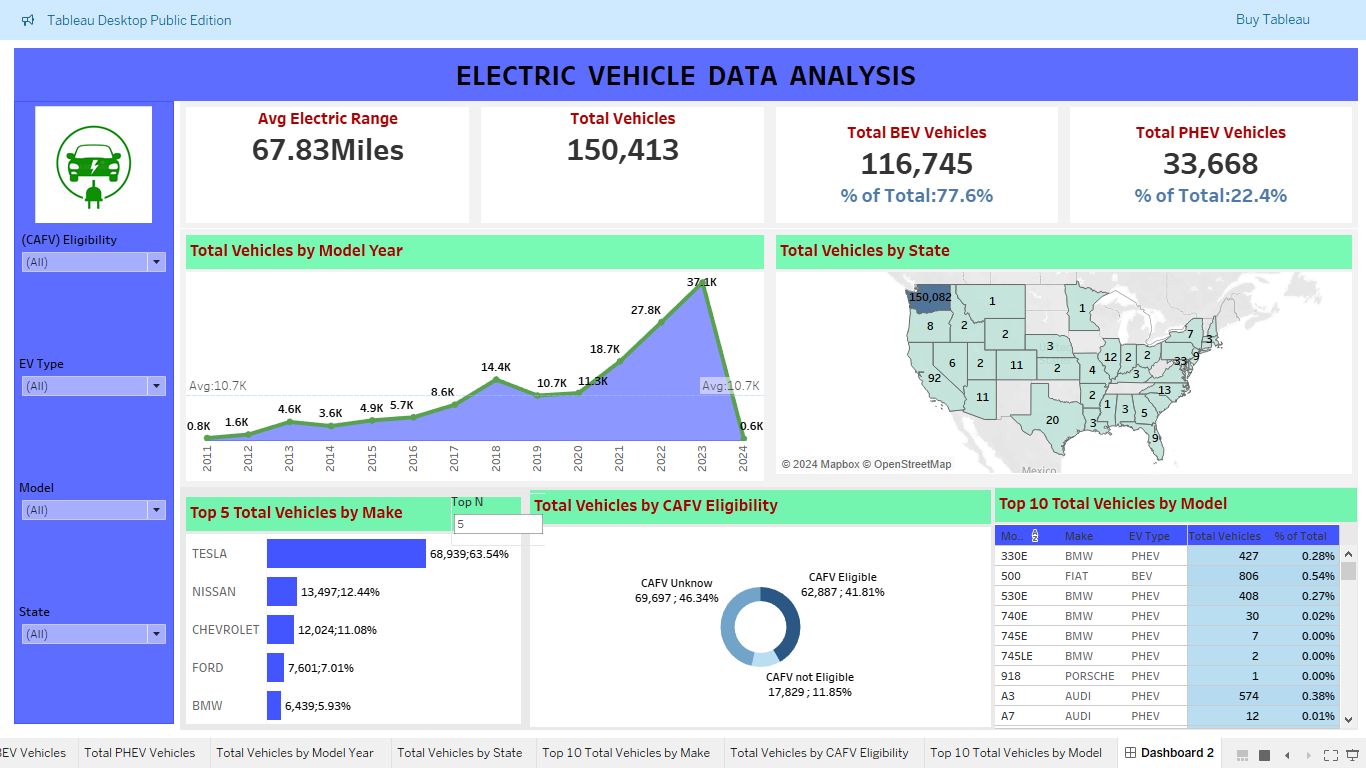

This screenshot's page, from the dashboard's own definition file:
{"tool":"tableau","page":{"name":"Dashboard 2","canvas":[1000,1000],"units":"permille","ordinal":0},"visuals":[{"type":"title","box":[6.9,14.5,986.1,76]},{"type":"worksheet","title":"Avg Electric Range","mark":"Automatic","box":[132.5,90.6,215.6,181.2]},{"type":"worksheet","title":"Total Vehicles","mark":"Automatic","box":[348.1,90.6,215.6,181.2]},{"type":"worksheet","title":"Total BEV Vehicles","mark":"Automatic","box":[563.6,90.6,214.7,181.2]},{"type":"worksheet","title":"Total PHEV Vehicles ","mark":"Automatic","box":[778.4,90.6,214.7,181.2]},{"type":"image","param":"C:/Users/Dell/Downloads/download.png","box":[13,92.4,113.4,177.5]},{"type":"filter","title":"Total Vehicles by Model Year ","param":"[federated.0qcce760u7c6ek1cqgjtz12ka2fo].[none:Clean Alternative Fuel Vehicle (C","box":[13,269.9,113.4,175.7]},{"type":"worksheet","title":"Total Vehicles by Model Year ","mark":"Area","rows":["Calculation_1089871118873862144","Calculation_1089871118873862144"],"cols":["Model Year"],"box":[132.3,271.7,430.9,367.7]},{"type":"worksheet","title":"Total Vehicles by State","mark":"Multipolygon","box":[563.2,271.7,429.8,367.7]},{"type":"filter","title":"Total Vehicles by Model Year ","param":"[federated.0qcce760u7c6ek1cqgjtz12ka2fo].[none:Electric Vehicle Type:nk]","box":[13,445.7,113.4,175.7]},{"type":"filter","title":"Total Vehicles by Model Year ","param":"[federated.0qcce760u7c6ek1cqgjtz12ka2fo].[none:Model:nk]","box":[13,621.4,113.4,175.7]},{"type":"worksheet","title":"Top 10 Total Vehicles by Make","mark":"Automatic","rows":["Make"],"cols":["Calculation_1089871118873862144"],"box":[132.3,639.4,300.4,346.1]},{"type":"worksheet","title":"Total Vehicles by CAFV Eligibility","mark":"Pie","rows":["Calculation_1089871119022354441","Calculation_1089871119022354441"],"box":[432.7,639.4,245.2,346.1]},{"type":"worksheet","title":"Top 10 Total Vehicles by Model","mark":"Square","rows":["Model","Make","Electric Vehicle Type"],"box":[677.9,639.4,315.2,346.1]},{"type":"parameter","param":"[Parameters].[Parameter 1]","box":[329.9,648.6,69.3,76.1]},{"type":"filter","title":"Total Vehicles by Model Year ","param":"[federated.0qcce760u7c6ek1cqgjtz12ka2fo].[none:State:nk]","box":[13,797.1,113.4,175.7]}]}

Visuals, with their boxes on the dashboard's canvas, which has no fixed pixel size, in thousandths of its width and height (x1, y1, x2, y2). These are canvas units, not pixel positions in the 1366x768 screenshot, which may show the page scaled, cropped or inside an application window:
title: box(7, 14, 993, 90)
"Avg Electric Range" worksheet: box(132, 91, 348, 272)
"Total Vehicles" worksheet: box(348, 91, 564, 272)
"Total BEV Vehicles" worksheet: box(564, 91, 778, 272)
"Total PHEV Vehicles " worksheet: box(778, 91, 993, 272)
image: box(13, 92, 126, 270)
"Total Vehicles by Model Year " filter: box(13, 270, 126, 446)
"Total Vehicles by Model Year " worksheet (Area marks): box(132, 272, 563, 639)
"Total Vehicles by State" worksheet (Multipolygon marks): box(563, 272, 993, 639)
"Total Vehicles by Model Year " filter: box(13, 446, 126, 621)
"Total Vehicles by Model Year " filter: box(13, 621, 126, 797)
"Top 10 Total Vehicles by Make" worksheet: box(132, 639, 433, 986)
"Total Vehicles by CAFV Eligibility" worksheet (Pie marks): box(433, 639, 678, 986)
"Top 10 Total Vehicles by Model" worksheet (Square marks): box(678, 639, 993, 986)
parameter: box(330, 649, 399, 725)
"Total Vehicles by Model Year " filter: box(13, 797, 126, 973)
